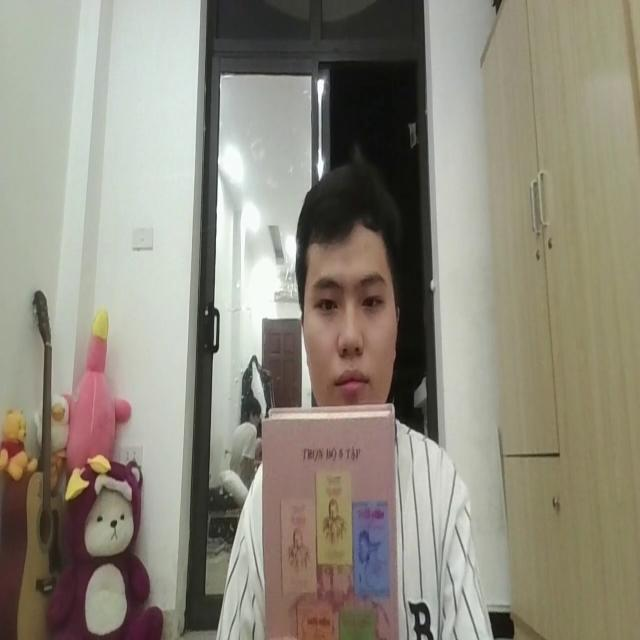book: (263, 389, 399, 640)
student: (228, 153, 494, 640)
